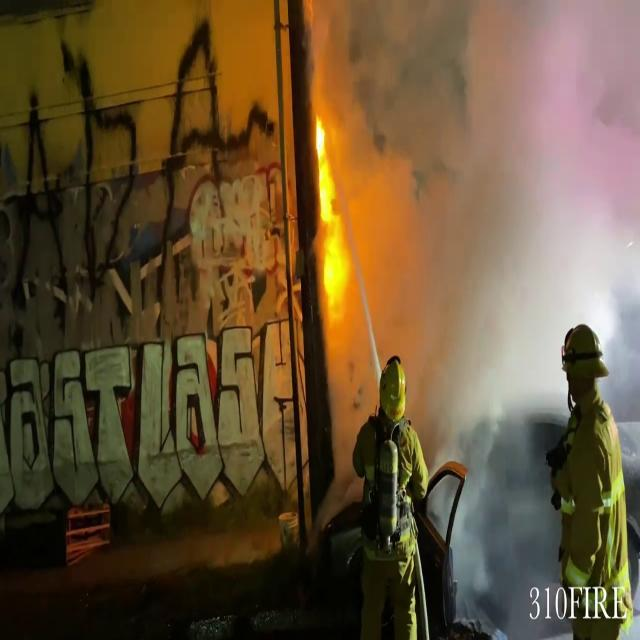Fire: (310, 106, 352, 351)
Smoke: (327, 1, 639, 427)
